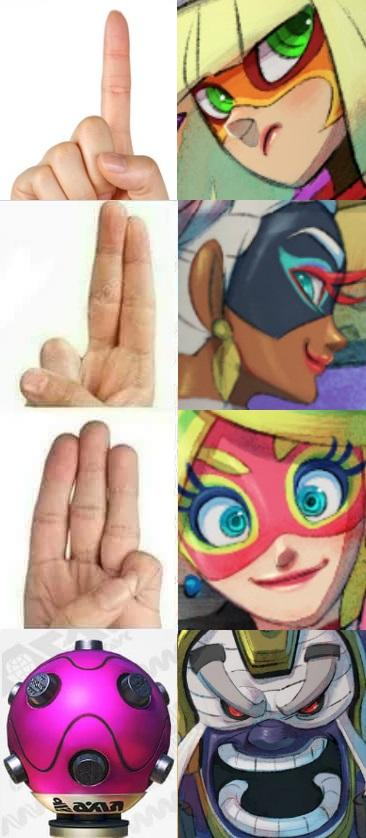finger: (25, 440, 82, 570), (99, 8, 148, 147), (96, 443, 151, 561), (89, 199, 128, 352), (71, 418, 109, 558), (118, 218, 159, 347), (69, 115, 123, 185), (42, 139, 99, 199), (14, 166, 70, 204), (39, 336, 81, 376), (120, 550, 161, 579)
